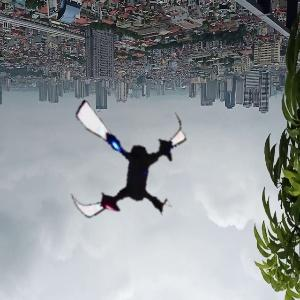drone: (53, 89, 198, 234)
